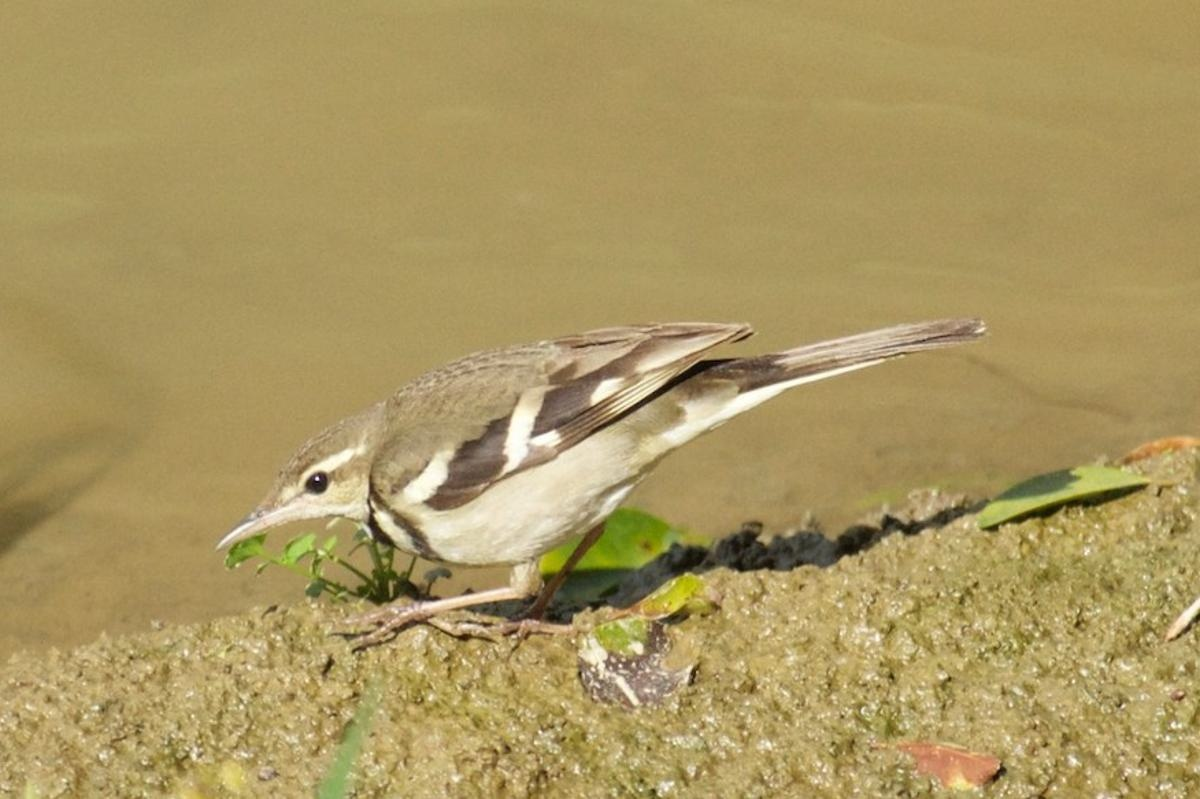wagtail: (225, 316, 994, 601)
